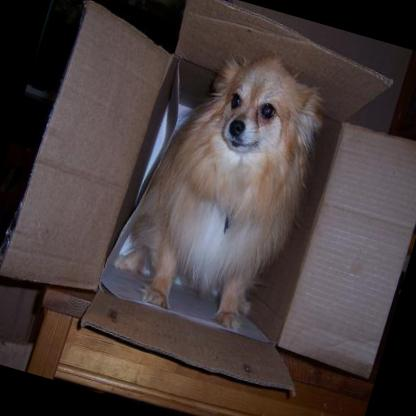Pomeranian: (116, 26, 340, 340)
